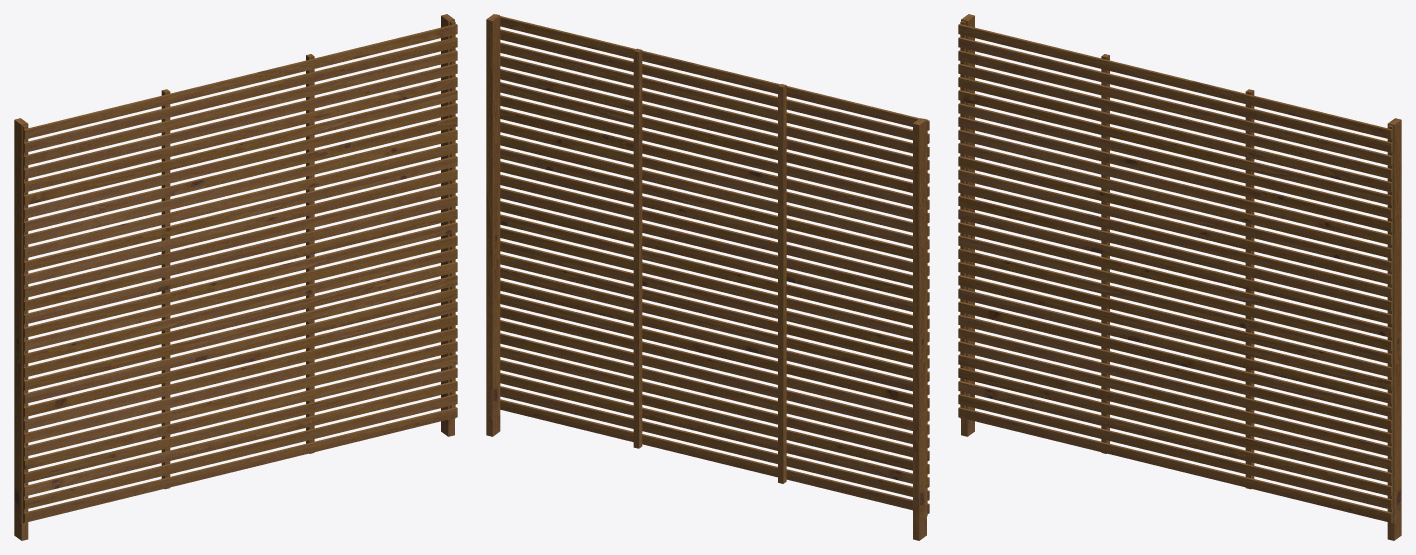
File: EAdesignunitborder_h1835-w1999_naturalpine.fbx
3 renders of one model, left to right at view 1: azimuth 30°, elevation 25°; view 2: azimuth 150°, elevation 25°; view 3: azimuth 330°, elevation 25°, orthographic.
Visible parts, largest first — view 1: EAdesignunitborder_h1835-w1999_naturalpine; view 2: EAdesignunitborder_h1835-w1999_naturalpine; view 3: EAdesignunitborder_h1835-w1999_naturalpine.
Boxes of the visible parts, x1=… form: EAdesignunitborder_h1835-w1999_naturalpine: x1=14, y1=14, x2=457, y2=540; EAdesignunitborder_h1835-w1999_naturalpine: x1=486, y1=14, x2=929, y2=540; EAdesignunitborder_h1835-w1999_naturalpine: x1=958, y1=14, x2=1401, y2=540.
Size of the model in its own units: 200 by 183 by 8.4.
Materials: 1 (1 with a texture image).
